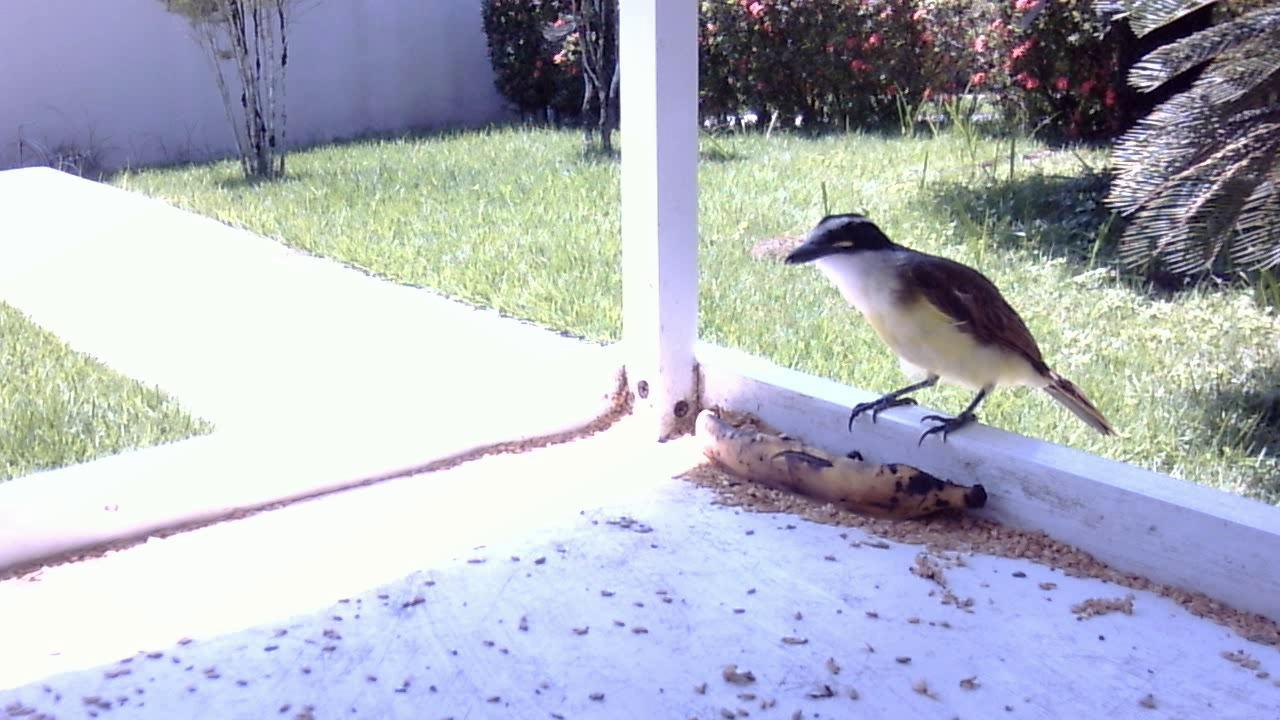bem_te_vi: (771, 205, 1121, 454)
